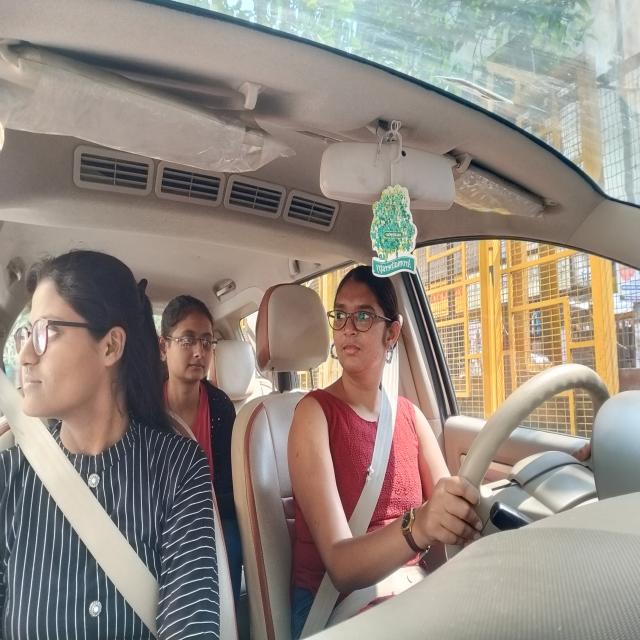LeftRight: (327, 263, 404, 390)
person: (14, 250, 127, 419), (160, 290, 218, 392)
